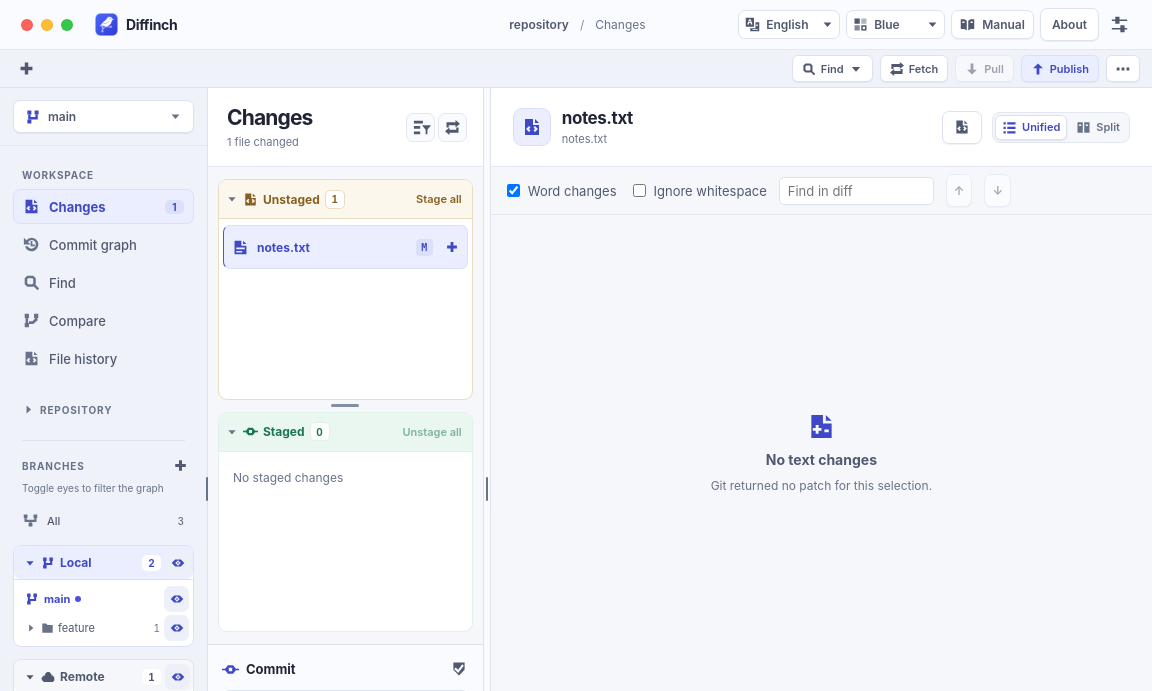
Test case: keeps the reviewed branch when confirming Merge into current branch… after a refresh
Click the button "Commit graph".
click(104, 244)  # box x1=13 y1=227 x2=194 y2=262
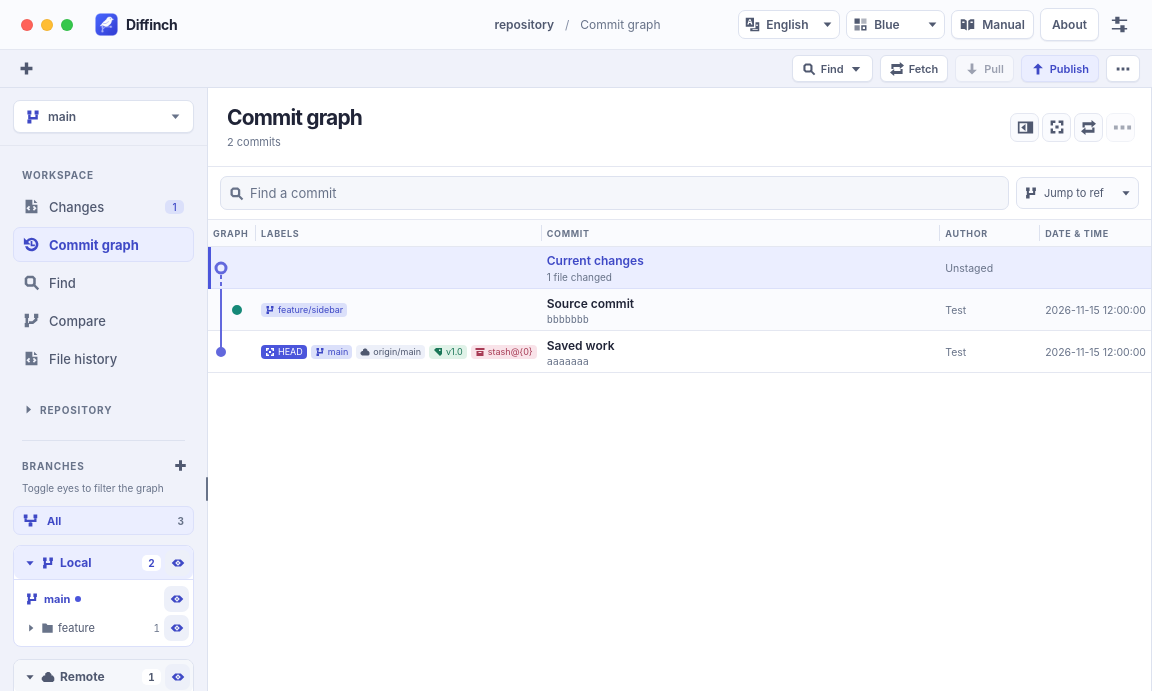
Click the button with aria-label "Source commit,".
click(229, 310)  # box x1=208 y1=289 x2=1151 y2=331
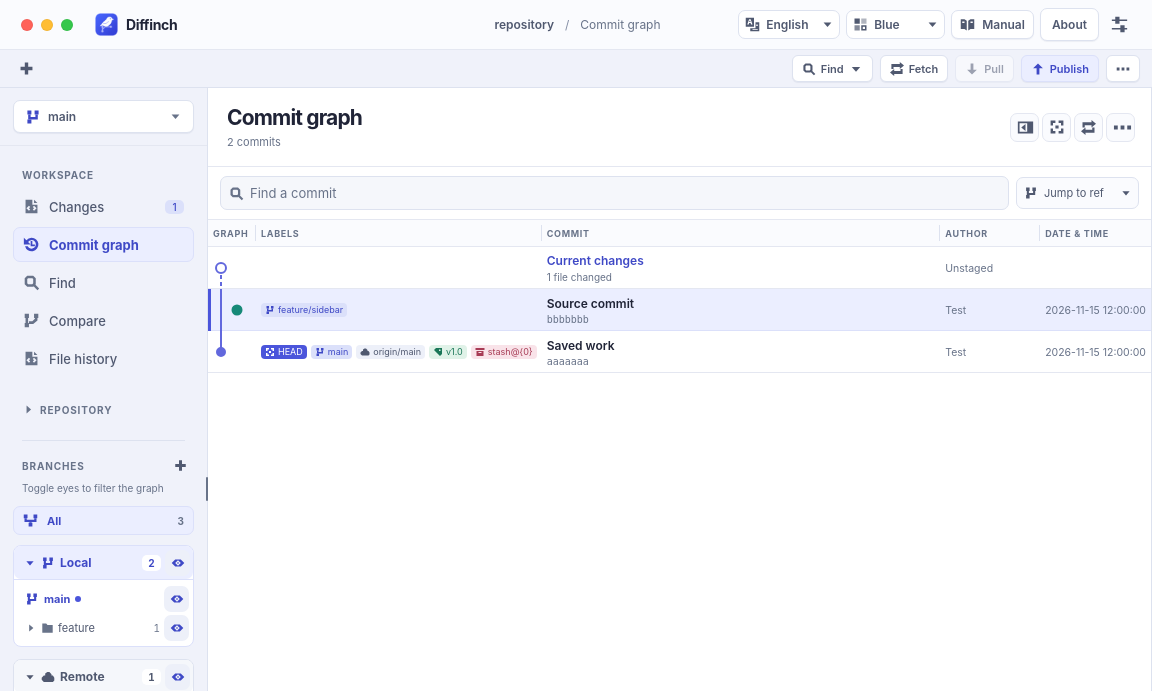
Click the button named "Commit actions".
click(1120, 127)  # box x1=1106 y1=112 x2=1135 y2=142
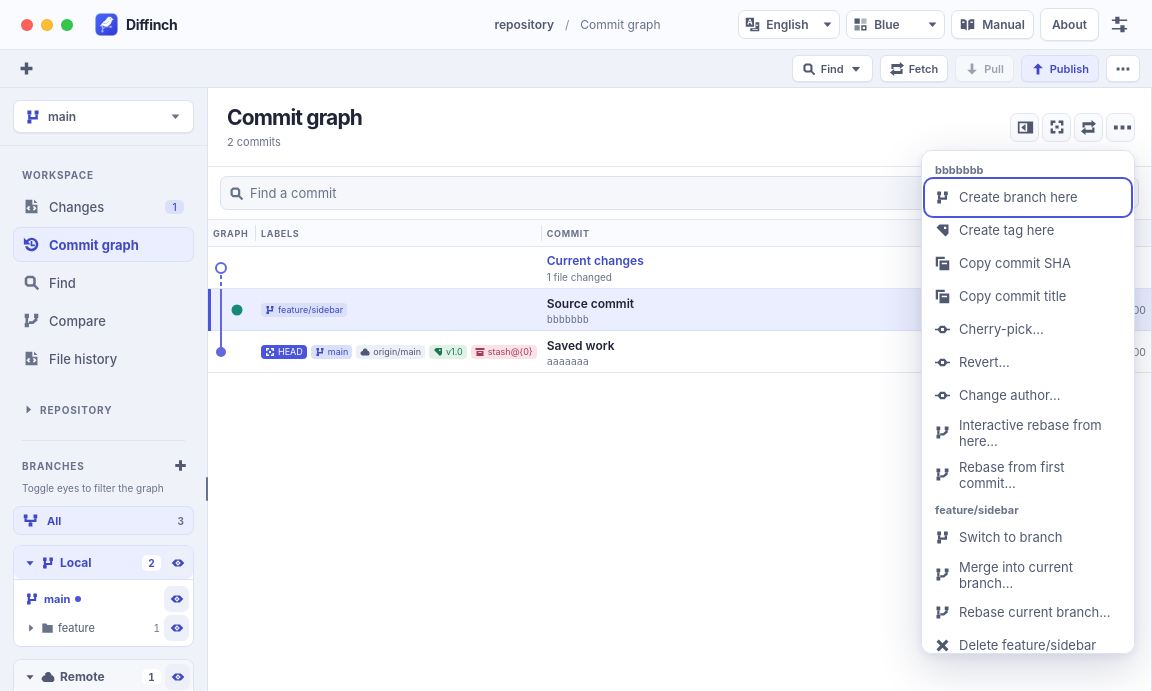
Click the button "Merge into current branch…".
click(1028, 574)  # box x1=927 y1=554 x2=1129 y2=596
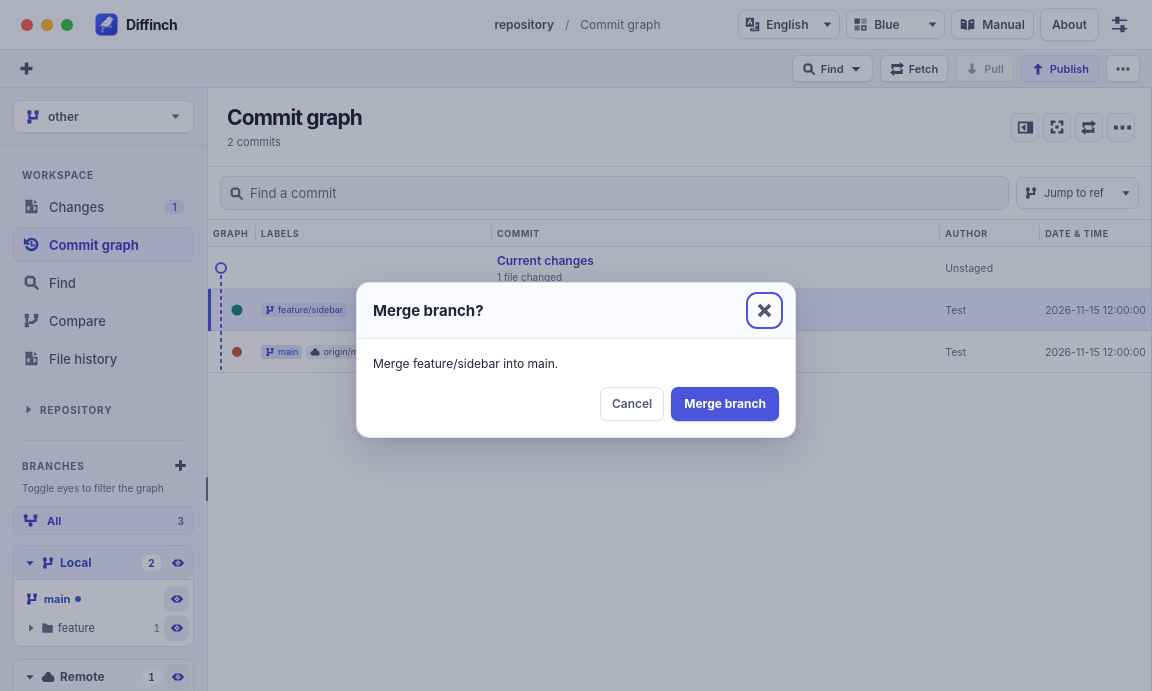
Click the button "Merge branch".
click(725, 404)  # box x1=671 y1=387 x2=779 y2=421
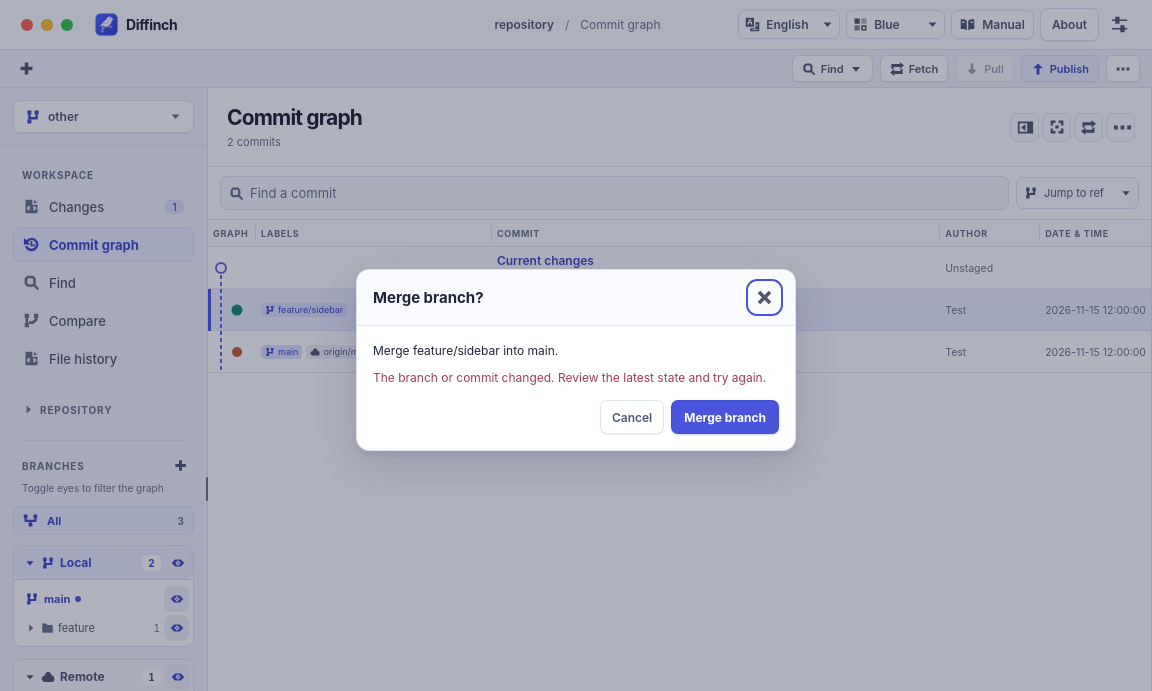
Now the message shows "branch or commit changed", box x1=373 y1=370 x2=766 y2=385
